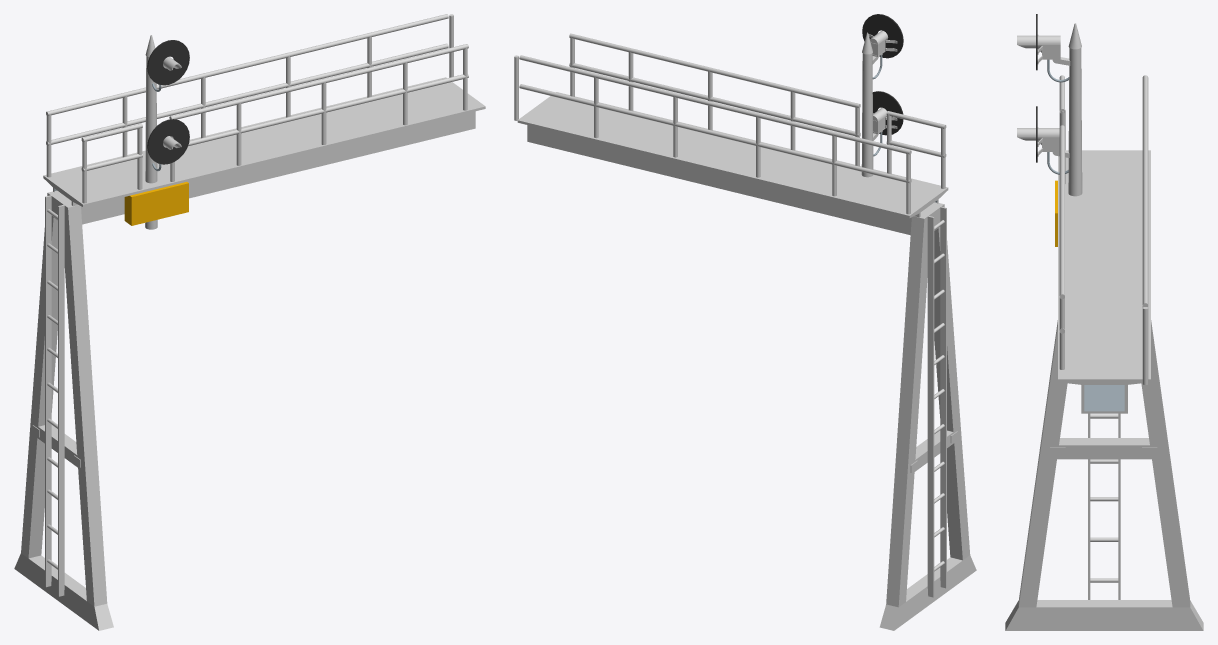
3 renders of one model, left to right at view 1: azimuth 30°, elevation 25°; view 2: azimuth 150°, elevation 25°; view 3: azimuth 270°, elevation 25°, orthographic. The views are drawn at different scales.
Parts seen in each view (by area): view 1: group_14, group_21, group_70, group_65, group_40, group_39, Box, group_55, group_56, group_4, group_4_2, group_11; view 2: group_14, group_21, group_70, group_65, group_39, group_40, group_55, group_56, group_11, group_4, group_4_2; view 3: group_14, group_21, group_11, group_39, group_55, group_65, group_7, group_7_2, group_30, group_57.
Part boxes in pixels (x1,y1,x2,y2): group_14: [43, 77, 485, 224]; group_21: [14, 190, 113, 630]; group_70: [45, 195, 64, 434]; group_65: [45, 424, 64, 596]; group_40: [46, 43, 448, 145]; group_39: [46, 14, 448, 116]; Box: [124, 182, 188, 225]; group_55: [169, 44, 468, 119]; group_56: [188, 74, 468, 146]; group_4: [147, 40, 189, 85]; group_4_2: [147, 119, 189, 164]; group_11: [145, 35, 157, 229]; group_14: [517, 92, 948, 235]; group_21: [879, 202, 976, 630]; group_70: [927, 206, 946, 439]; group_65: [927, 429, 946, 597]; group_39: [519, 55, 911, 154]; group_40: [519, 84, 911, 183]; group_55: [569, 33, 860, 108]; group_56: [569, 63, 860, 136]; group_11: [861, 32, 873, 177]; group_4: [862, 14, 903, 58]; group_4_2: [872, 91, 903, 135]; group_14: [1058, 150, 1150, 413]; group_21: [1005, 320, 1203, 630]; group_11: [1068, 23, 1082, 196]; group_39: [1142, 75, 1148, 306]; group_55: [1059, 125, 1064, 299]; group_65: [1088, 422, 1120, 599]; group_7: [1017, 35, 1060, 59]; group_7_2: [1017, 128, 1059, 151]; group_30: [1142, 307, 1148, 384]; group_57: [1059, 298, 1064, 369].
Size of the model in its own units: 7.29 by 9.31 by 2.56.
